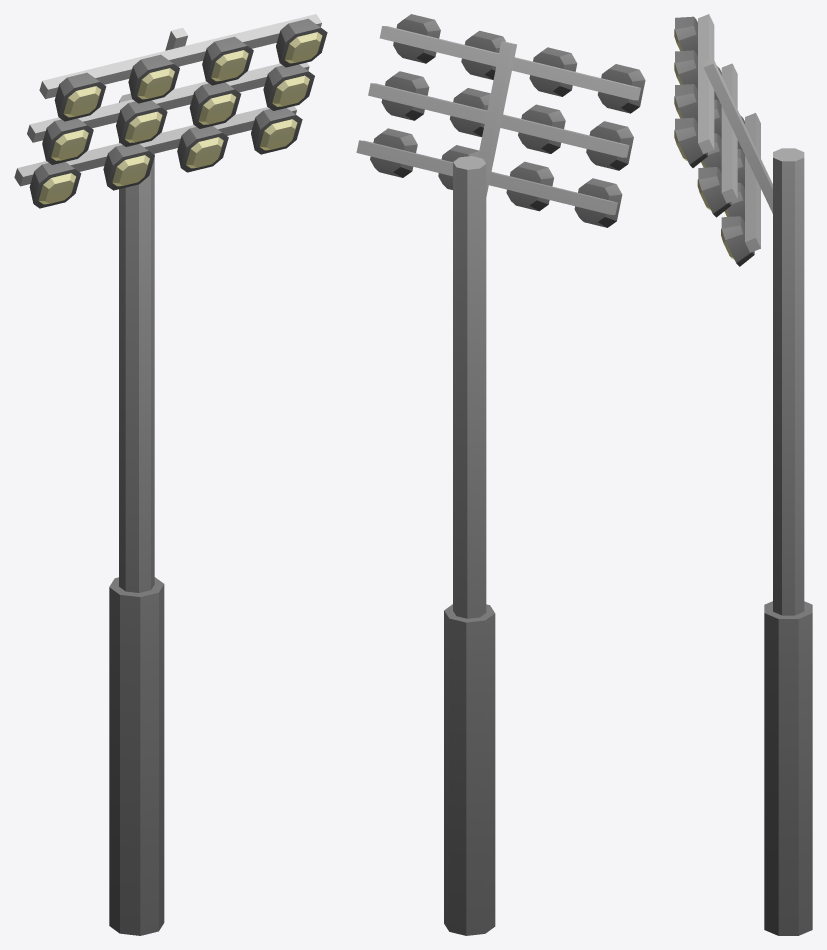
Rendered from stadium lighting.fbx.
3 views of the same model, side by side, from view 1: azimuth 30°, elevation 25°; view 2: azimuth 150°, elevation 25°; view 3: azimuth 270°, elevation 25° (orthographic). The views are drawn at different scales.
Visible parts, largest first — view 1: stadium lighting; view 2: stadium lighting; view 3: stadium lighting.
Part boxes in pixels (x1,y1,x2,y2): stadium lighting: (14,14,327,935); stadium lighting: (356,14,645,935); stadium lighting: (674,14,812,935).
Size of the model in its own units: 306 by 987 by 143.
